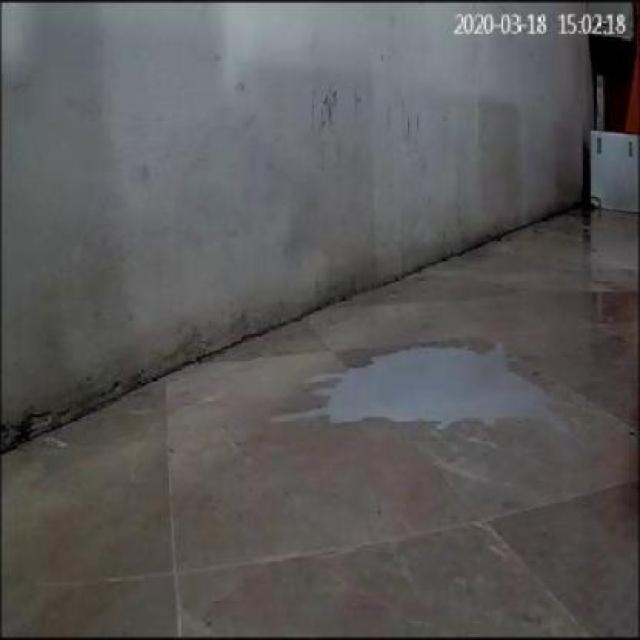spillage: (271, 345, 550, 428)
